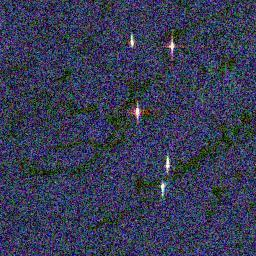Ship: (131, 102, 144, 121), (163, 155, 172, 172), (168, 37, 175, 57), (158, 181, 167, 196), (128, 35, 136, 50)
